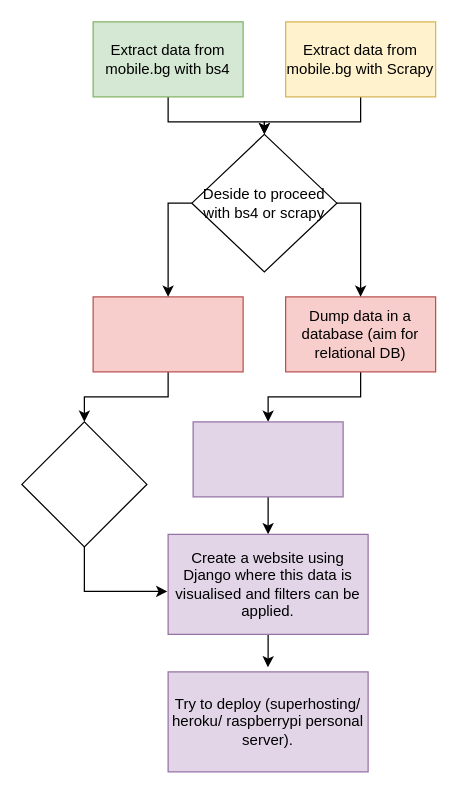
This 458x794 diagram has some shape labels left out. Here are the shapes that lost their labels. From the top down, the box of each, then its label:
(92, 296, 243, 372): Organise data and prepare for Excel export
(192, 421, 343, 497): Think of ways to analyse the data from the DB
(21, 421, 147, 547): Create Excel exporter
